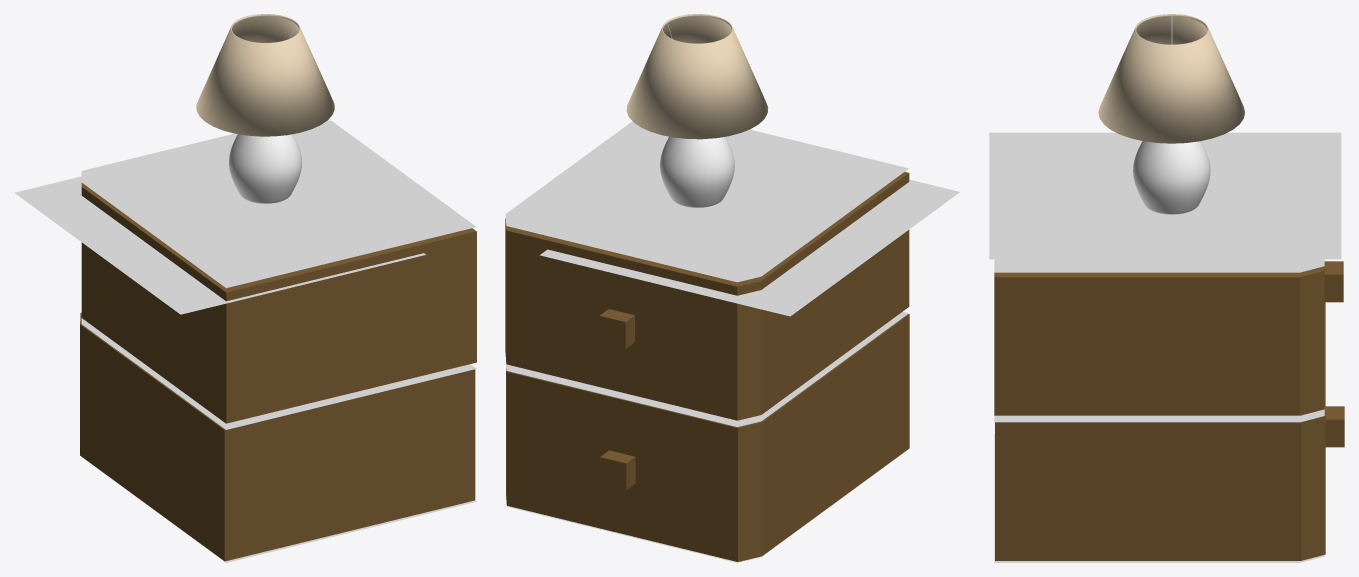
Rendered from cekmece.fbx.
The picture shows the model from 3 angles, left to right: view 1: azimuth 30°, elevation 25°; view 2: azimuth 150°, elevation 25°; view 3: azimuth 270°, elevation 25°; orthographic projection. The views are drawn at different scales.
Visible parts, largest first — view 1: Cube, Cube.001, Cube.003, Lampshade, Plane, Lamp_base, Cube.002, Cube.004; view 2: Cube, Cube.001, Cube.003, Lampshade, Plane, Lamp_base, Cube.002, Cube.004; view 3: Cube.001, Cube, Cube.003, Lampshade, Plane, Lamp_base, Cube.002, Cube.004.
Part boxes in pixels (bbox=[...]): Cube: bbox=[80, 312, 475, 561]; Cube.001: bbox=[81, 183, 476, 423]; Cube.003: bbox=[81, 120, 476, 288]; Lampshade: bbox=[196, 14, 334, 136]; Plane: bbox=[14, 176, 425, 314]; Lamp_base: bbox=[229, 134, 302, 203]; Cube.002: bbox=[81, 318, 476, 429]; Cube.004: bbox=[82, 457, 476, 562]; Cube: bbox=[506, 314, 909, 561]; Cube.001: bbox=[505, 172, 909, 420]; Cube.003: bbox=[505, 121, 908, 282]; Lampshade: bbox=[626, 14, 768, 139]; Plane: bbox=[540, 179, 959, 316]; Lamp_base: bbox=[660, 136, 734, 207]; Cube.002: bbox=[505, 311, 908, 426]; Cube.004: bbox=[505, 449, 908, 562]; Cube.001: bbox=[994, 261, 1343, 415]; Cube: bbox=[995, 302, 1344, 560]; Cube.003: bbox=[994, 143, 1324, 272]; Lampshade: bbox=[1098, 14, 1244, 143]; Plane: bbox=[989, 132, 1341, 259]; Lamp_base: bbox=[1133, 141, 1210, 214]; Cube.002: bbox=[994, 409, 1324, 422]; Cube.004: bbox=[994, 433, 1324, 562].
Bounding box in the file's own units: 476 × 675 × 465.
